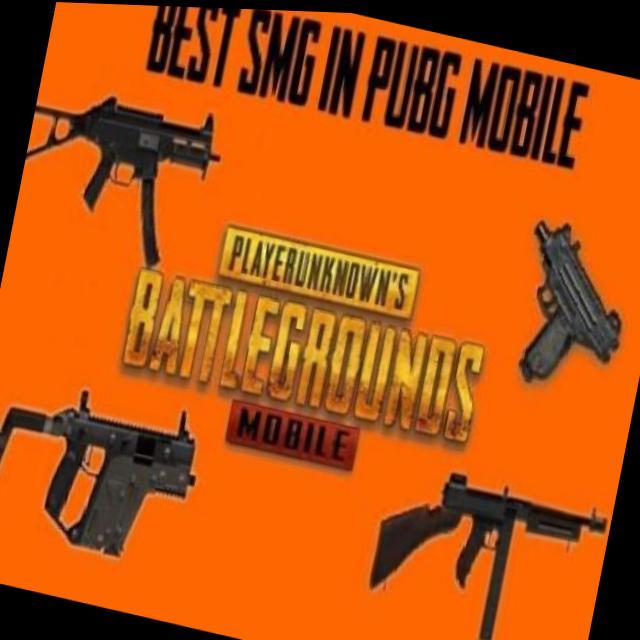weapon: (360, 450, 609, 640), (10, 72, 227, 278), (0, 362, 207, 572), (504, 209, 640, 396)
